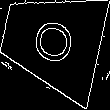O_W: (26, 14, 77, 69)
